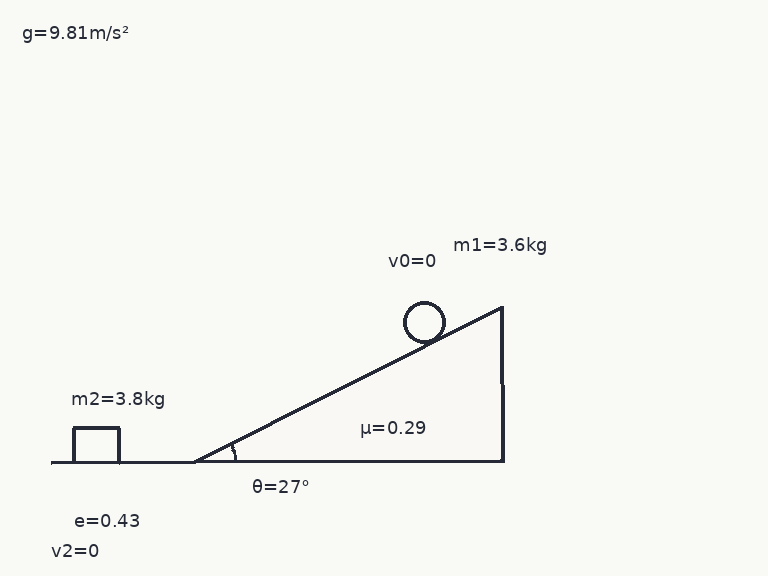ball: (401, 299, 447, 345)
block: (71, 426, 121, 464)
ramp: (193, 304, 503, 464)
